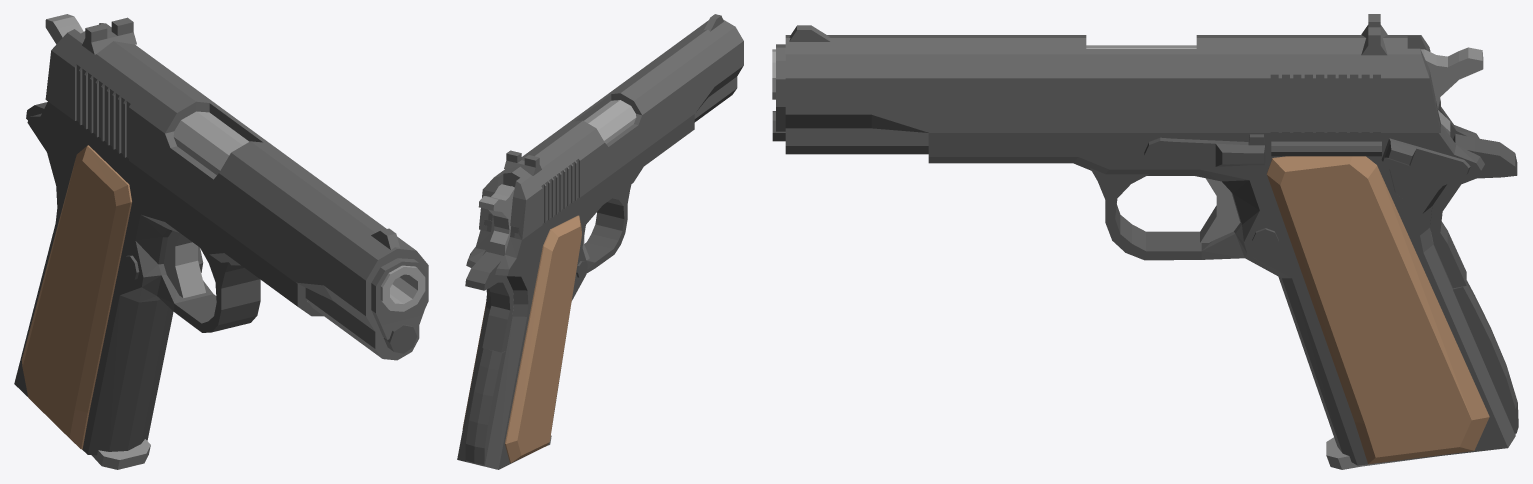
The picture shows the model from 3 angles, left to right: view 1: azimuth 30°, elevation 25°; view 2: azimuth 150°, elevation 25°; view 3: azimuth 270°, elevation 25°; orthographic projection. The views are drawn at different scales.
Visible parts, largest first — view 1: M1911; view 2: M1911; view 3: M1911.
Part boxes in pixels (<box>): M1911: <box>14,14,428,469</box>; M1911: <box>457,14,743,469</box>; M1911: <box>772,14,1518,469</box>.
Bounding box in the file's own units: 37.09 × 184 × 285.
